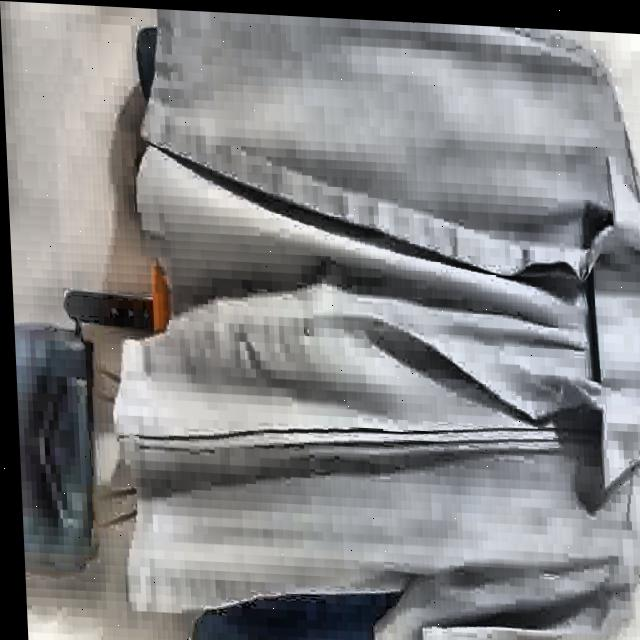clothes: (92, 5, 640, 640)
